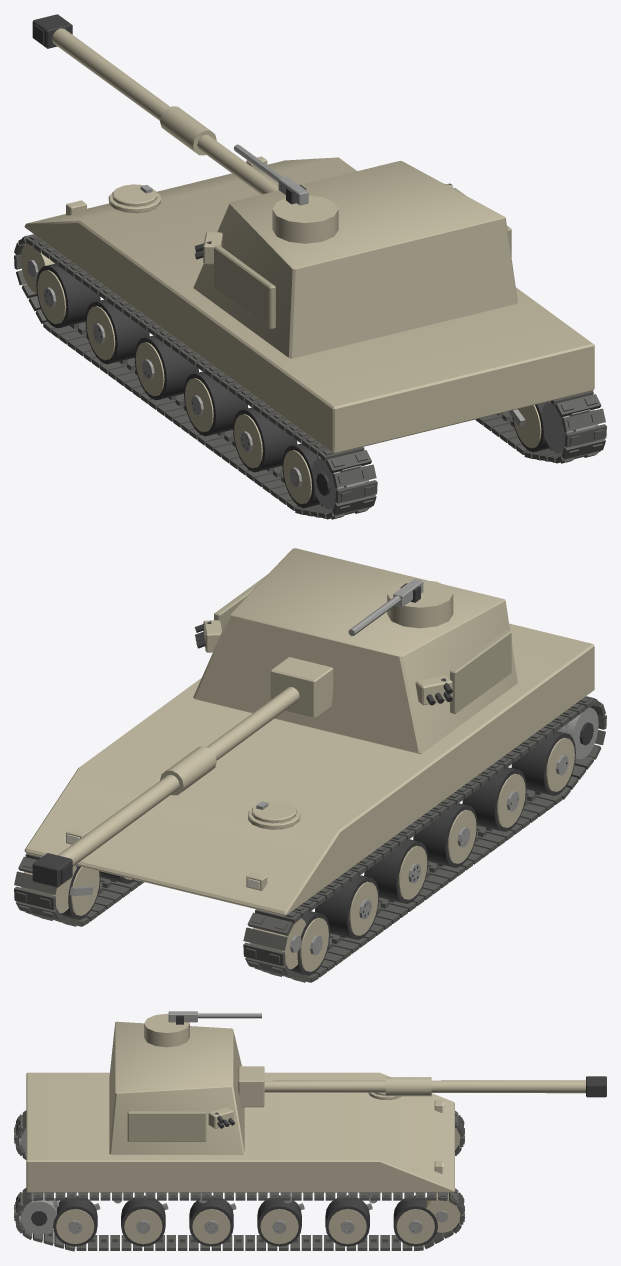
The model's file is rus_spg_akat.glb.
3 views of the same model, one above another, from view 1: azimuth 30°, elevation 25°; view 2: azimuth 150°, elevation 25°; view 3: azimuth 270°, elevation 25° (orthographic). The views are drawn at different scales.
Visible parts, largest first — view 1: body, turret, barrel; view 2: body, turret, barrel; view 3: body, turret, barrel.
Boxes of the visible parts, <box> form: body: <box>14,156,606,519</box>; turret: <box>193,144,517,358</box>; barrel: <box>32,14,278,194</box>; body: <box>14,623,606,982</box>; turret: <box>193,548,517,753</box>; barrel: <box>32,657,333,887</box>; body: <box>14,1072,464,1251</box>; turret: <box>109,1011,261,1154</box>; barrel: <box>238,1066,606,1107</box>.
Bounding box in the file's own units: 3.28 × 2.94 × 9.06.
